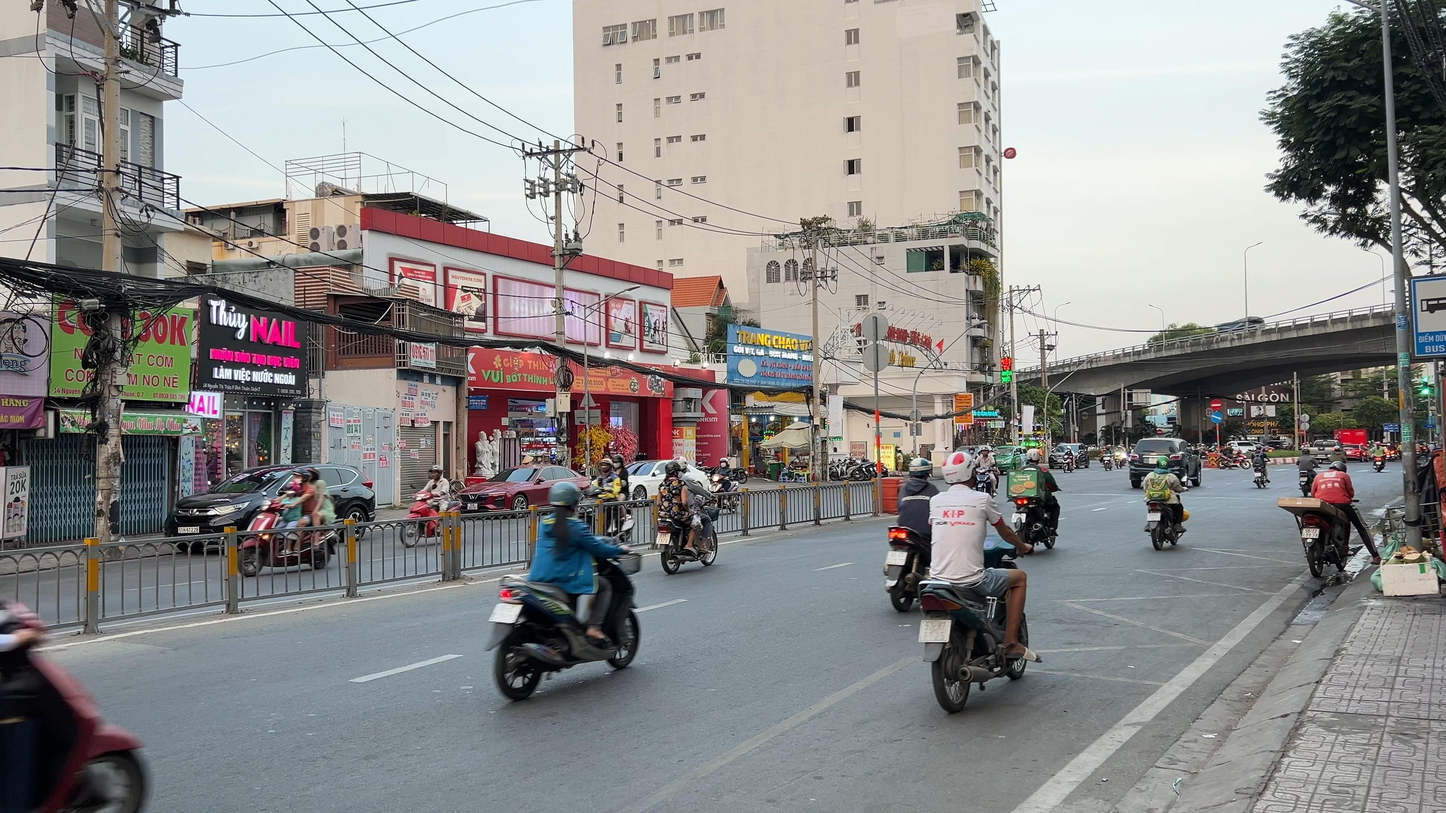driver: (486, 482, 642, 701), (917, 451, 1043, 713), (1278, 460, 1381, 578), (238, 466, 337, 577), (883, 457, 939, 612), (655, 455, 719, 574), (1006, 448, 1062, 555), (399, 465, 463, 548), (578, 454, 636, 542), (1143, 455, 1189, 551), (708, 457, 740, 513), (1295, 448, 1322, 498), (973, 446, 997, 499), (1215, 441, 1251, 469), (1250, 443, 1271, 488), (1062, 446, 1076, 473)
helmet: (942, 452, 978, 490), (548, 482, 579, 517), (909, 457, 933, 481), (663, 460, 685, 482), (292, 468, 310, 486), (672, 456, 687, 474), (306, 466, 321, 483), (1329, 460, 1347, 473), (1027, 448, 1040, 465), (1156, 455, 1170, 470), (600, 458, 613, 473), (612, 454, 624, 469), (719, 457, 729, 469), (981, 447, 990, 456), (1302, 448, 1310, 456), (969, 445, 975, 454)
